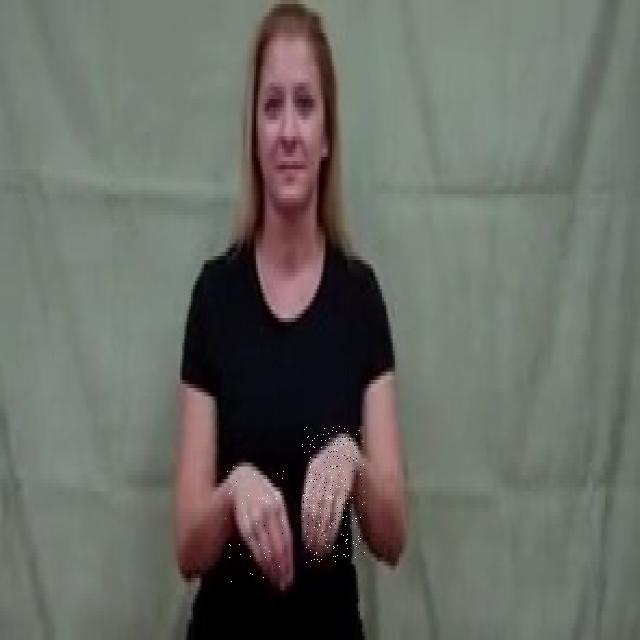ingredients: (302, 426, 366, 564), (225, 460, 292, 584)
